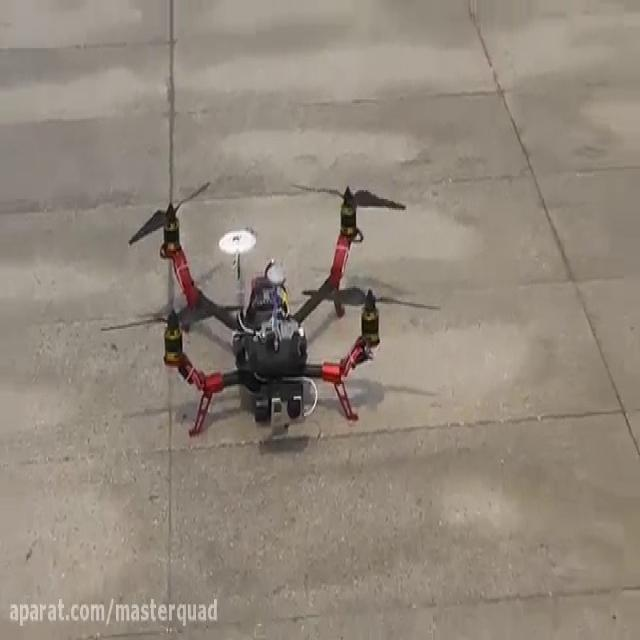drone: (101, 176, 441, 439)
